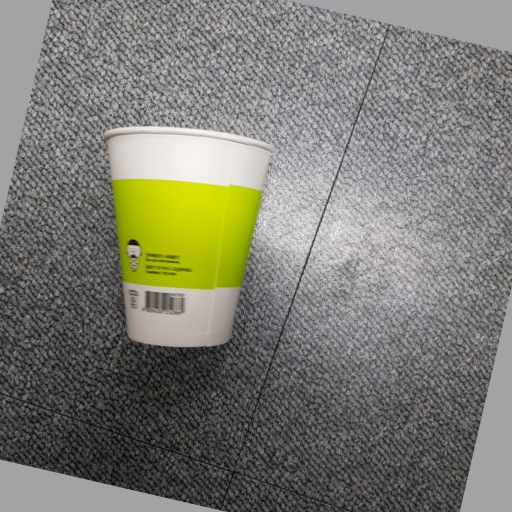Paper_1: (103, 122, 279, 355)
